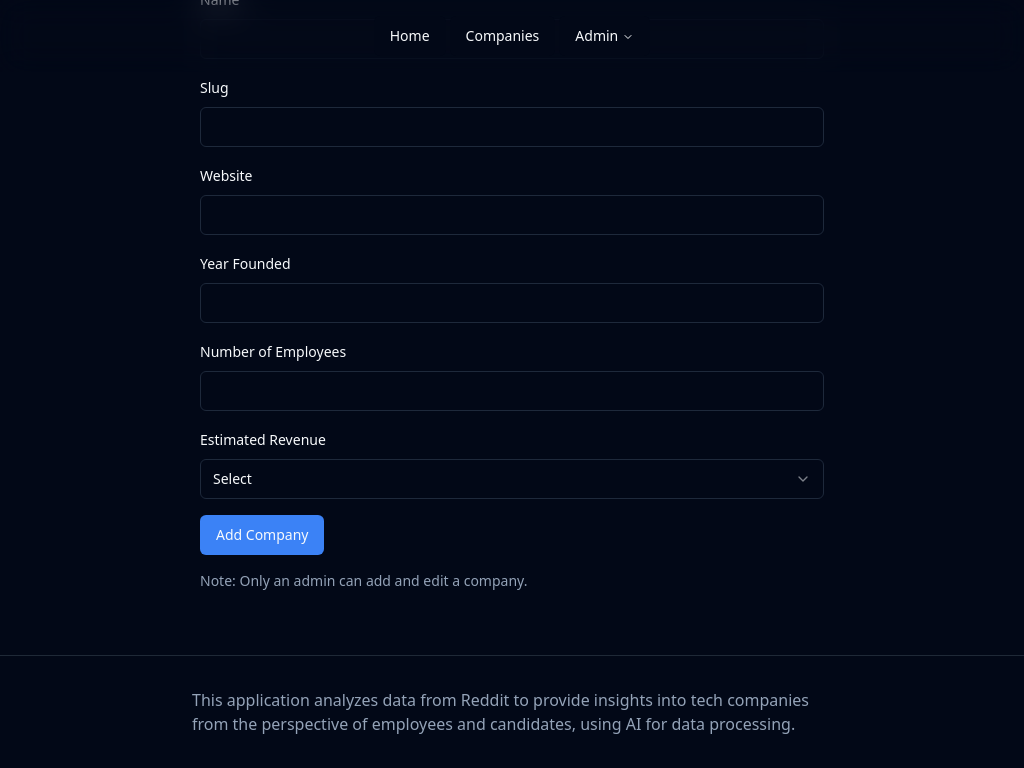
Test: Company Form Page › validates required fields
(page scrolled)
What coordinates should you click on to do the following:
click the submit button
I would click on:
 (263, 535)
Its box is 200,515 -> 325,555.
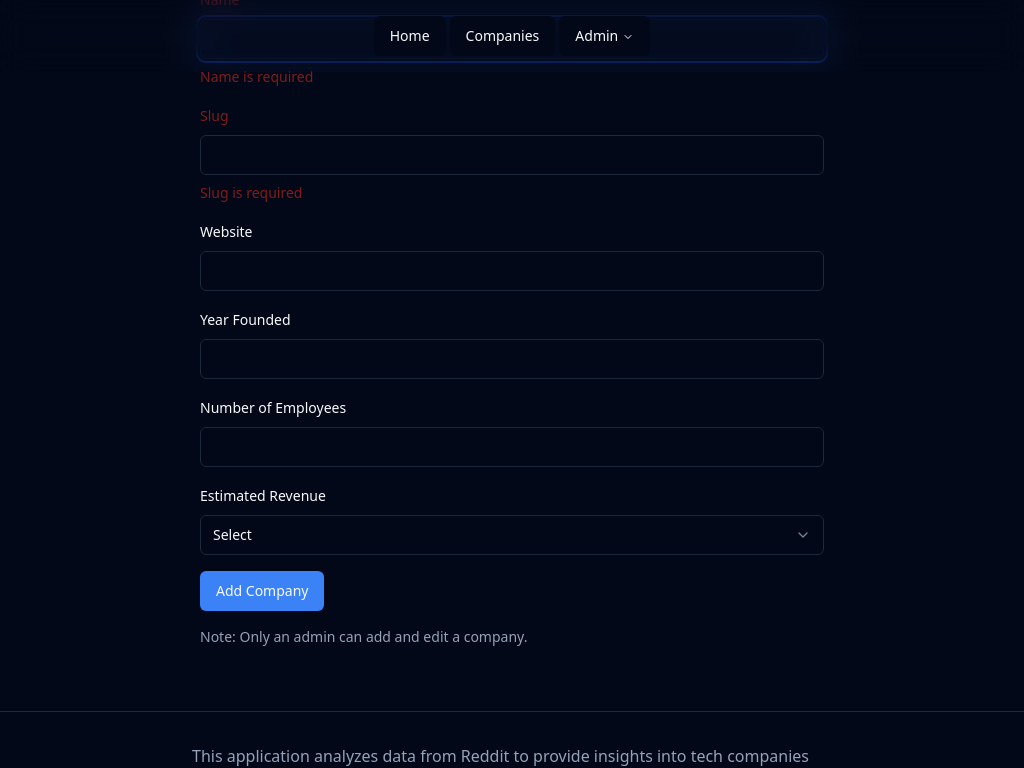
Expected: the text "Name is required" is shown, 200,67 -> 313,86
Expected: the text "Slug is required" is shown, 200,183 -> 302,202
